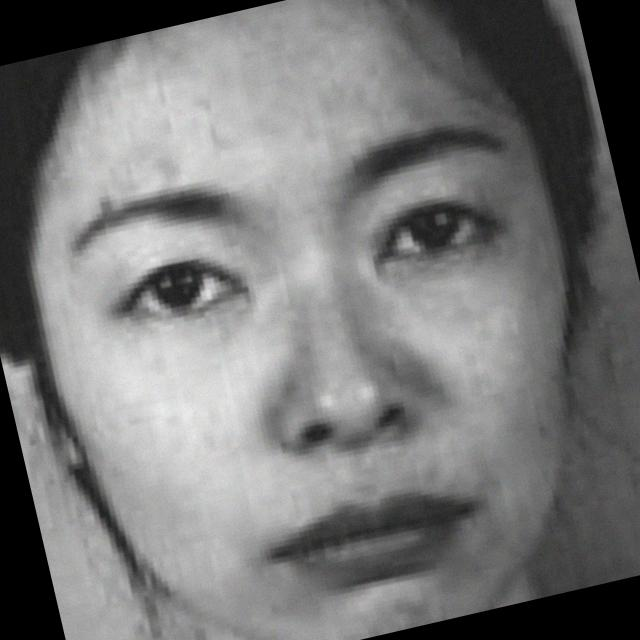sad: (30, 52, 607, 640)
